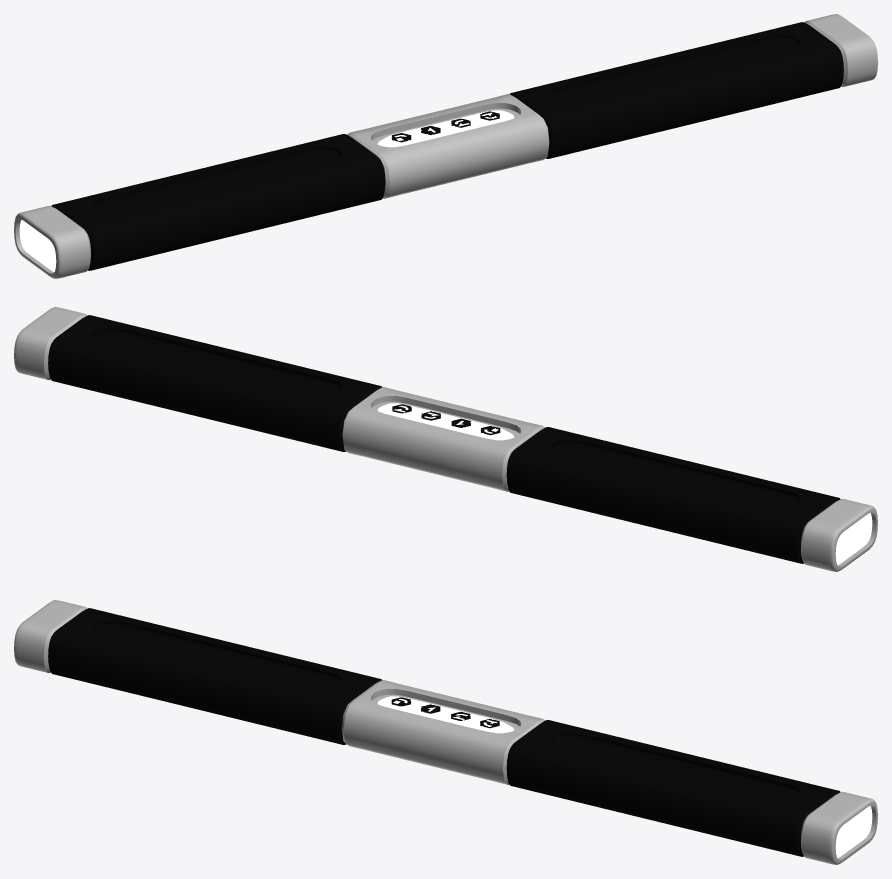
The model's file is Baton .fbx.
3 renders of one model, top to bottom at view 1: azimuth 30°, elevation 25°; view 2: azimuth 150°, elevation 25°; view 3: azimuth 330°, elevation 25°, orthographic.
Parts seen in each view (by area): view 1: Left Piece, Right Piece, Baton; view 2: Left Piece, Right Piece, Baton; view 3: Right Piece, Left Piece, Baton.
Part boxes in pixels (left/top/right/bottom): Left Piece: left=14, top=134, right=385, bottom=278; Right Piece: left=510, top=14, right=877, bottom=158; Baton: left=347, top=94, right=549, bottom=198; Left Piece: left=506, top=427, right=877, bottom=571; Right Piece: left=14, top=307, right=381, bottom=451; Baton: left=342, top=387, right=544, bottom=491; Right Piece: left=506, top=720, right=877, bottom=864; Left Piece: left=14, top=600, right=381, bottom=744; Baton: left=342, top=680, right=545, bottom=784.
Size of the model in its own units: 2000 by 100 by 196.
1 material, 1 textured.
